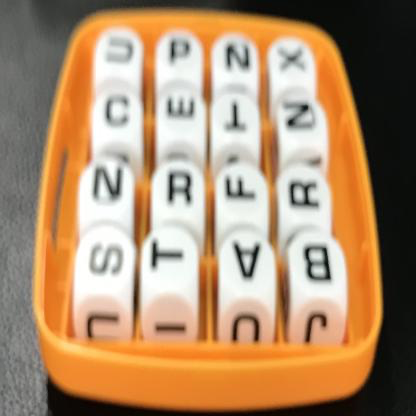a: (225, 229, 274, 296)
b: (294, 232, 345, 299)
c: (97, 88, 144, 138)
e: (160, 89, 204, 138)
f: (217, 160, 268, 220)
n: (82, 155, 134, 214), (274, 92, 324, 143), (216, 28, 256, 85)
p: (163, 24, 199, 80)
r: (153, 156, 203, 221), (281, 170, 328, 219)
s: (77, 224, 134, 298)
t: (143, 228, 195, 295), (211, 92, 262, 137)
u: (96, 22, 142, 84)
x: (272, 34, 312, 89)
